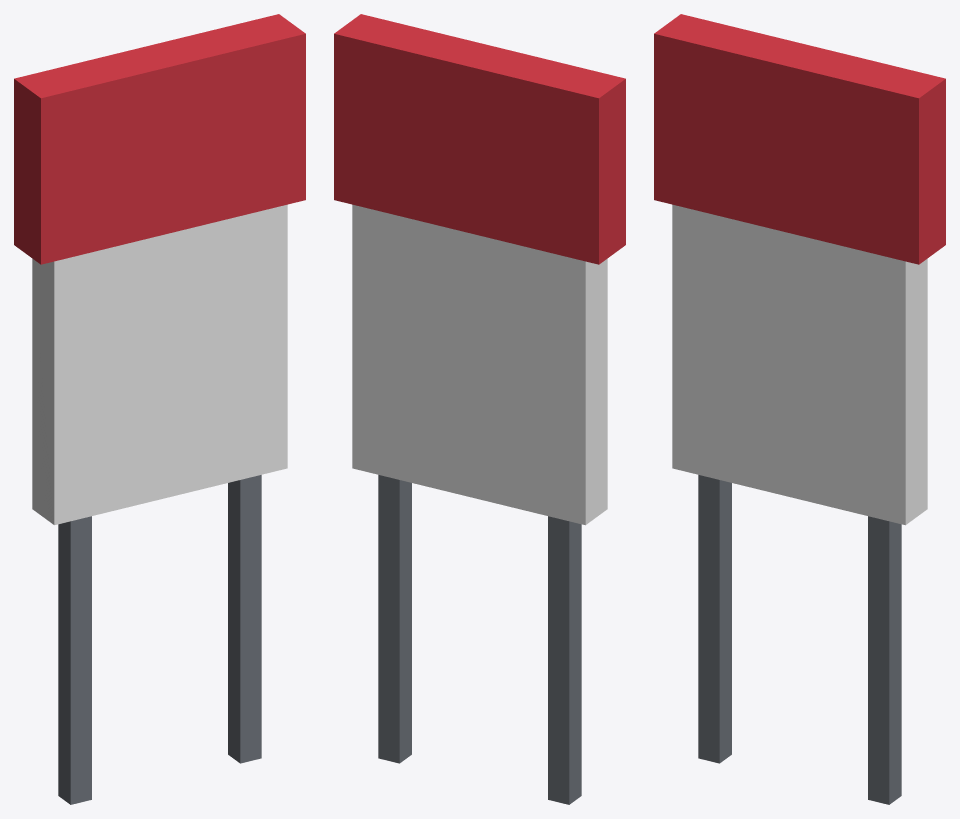
The model's file is site_sign_far.fbx.
The picture shows the model from 3 angles, left to right: view 1: azimuth 30°, elevation 25°; view 2: azimuth 150°, elevation 25°; view 3: azimuth 330°, elevation 25°; orthographic projection.
Parts seen in each view (by area): view 1: a1019/0/site_sign_far; view 2: a1019/0/site_sign_far; view 3: a1019/0/site_sign_far.
Boxes of the visible parts, <box> form: a1019/0/site_sign_far: <box>14,14,305,804</box>; a1019/0/site_sign_far: <box>334,14,625,804</box>; a1019/0/site_sign_far: <box>654,14,945,804</box>.
Size of the model in its own units: 2.5 by 6.5 by 0.44.
